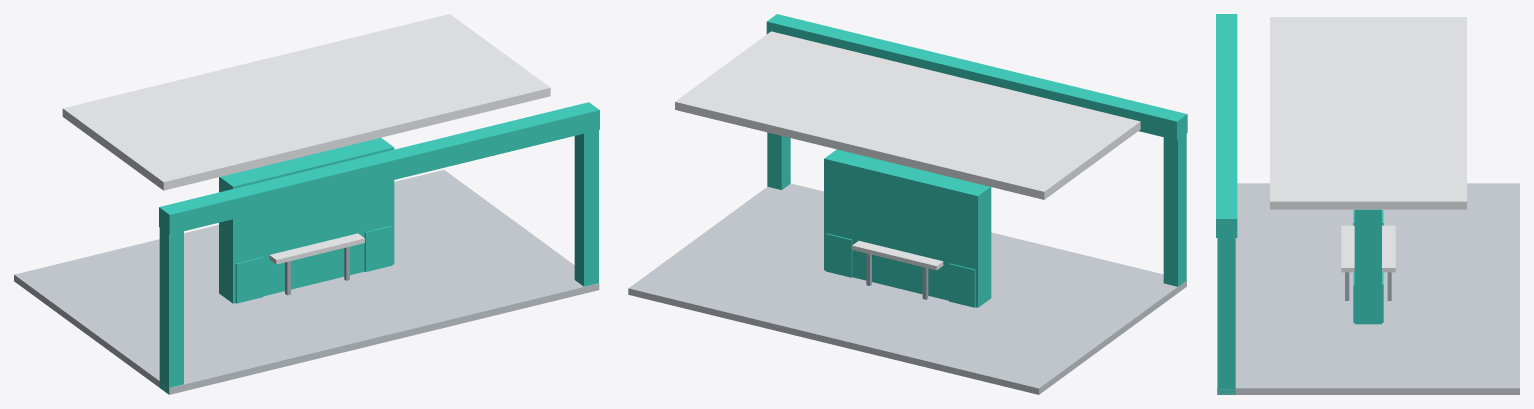
3 renders of one model, left to right at view 1: azimuth 30°, elevation 25°; view 2: azimuth 150°, elevation 25°; view 3: azimuth 270°, elevation 25°, orthographic. The views are drawn at different scales.
Visible parts, largest first — view 1: Exhibition Booth Concept; view 2: Exhibition Booth Concept; view 3: Exhibition Booth Concept.
Part boxes in pixels (left/top/right/bottom): Exhibition Booth Concept: left=14, top=14, right=599, bottom=394; Exhibition Booth Concept: left=628, top=14, right=1187, bottom=394; Exhibition Booth Concept: left=1216, top=14, right=1519, bottom=394.
Bounding box in the file's own units: 8 × 3.34 × 5.02.
